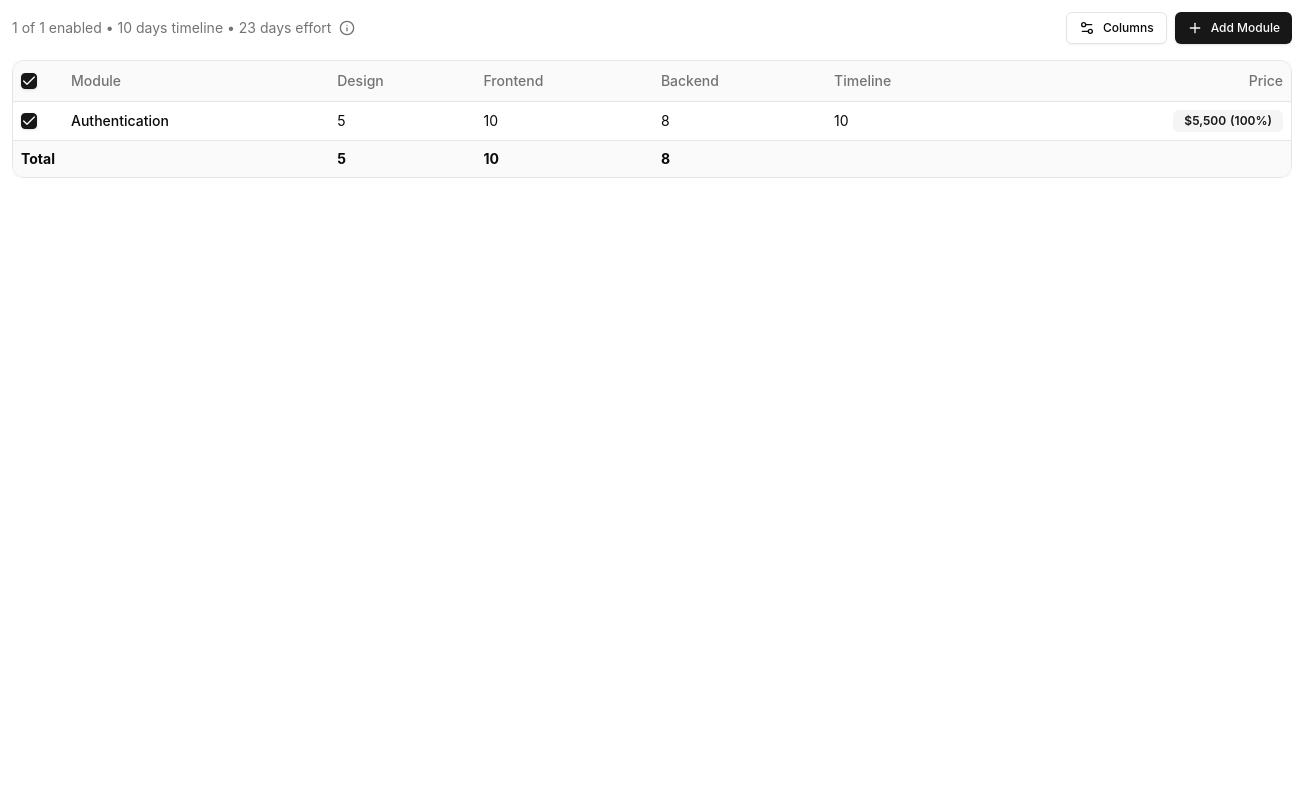
Test case: Integration Tests › ModuleList with AddModule Integration › should open AddModuleForm when Add Module button is clicked
Click the button "Add Module" at (1233, 28), box [1175,12,1292,44]
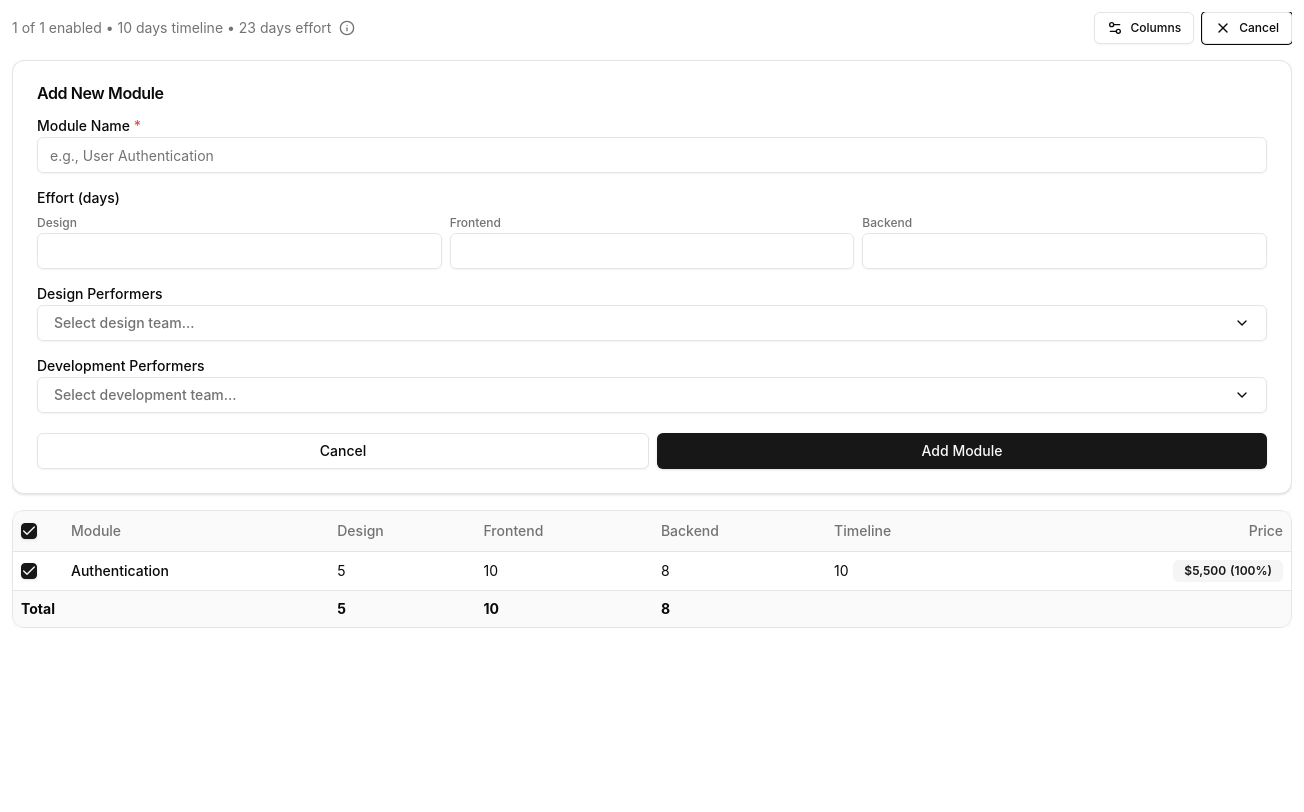
Result: the field with placeholder "e.g., User Authentication" is shown at [37,137,1267,173]
Result: the text "Design Performers" is shown at [37,285,163,302]
